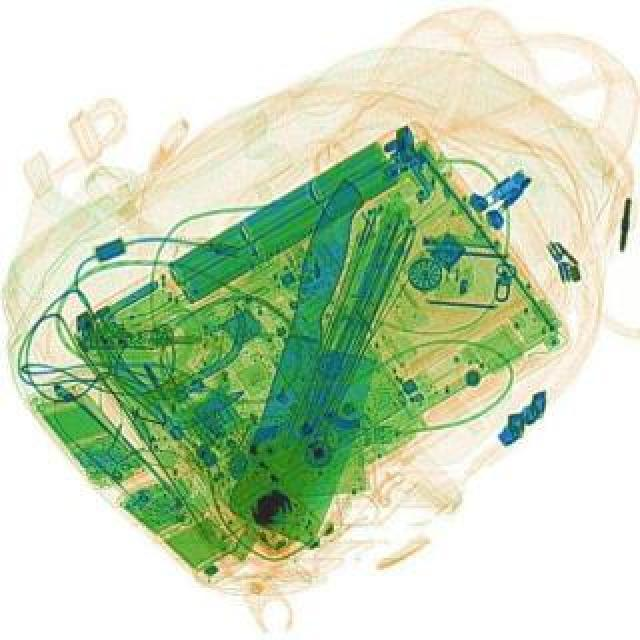knife: (218, 176, 430, 546)
